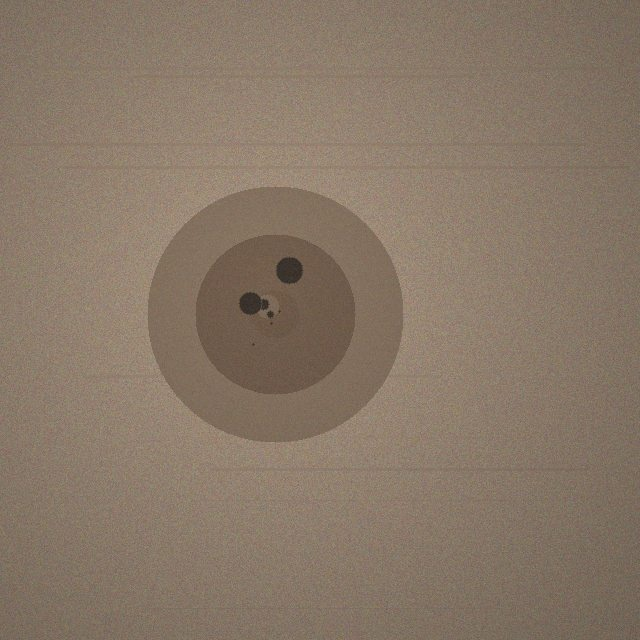shrinkage: (147, 186, 403, 442)
